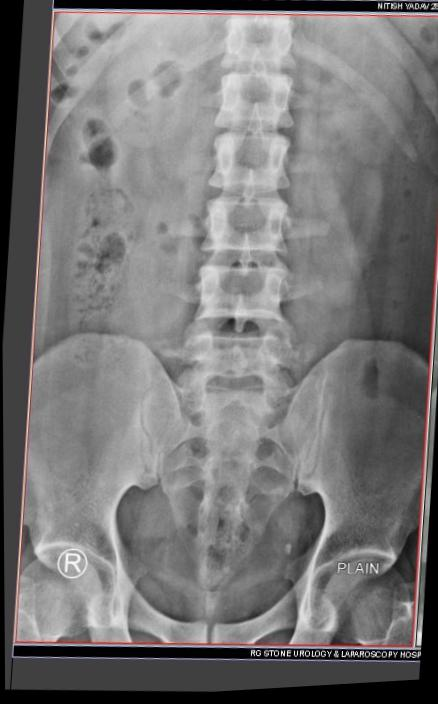bladder: (114, 538, 289, 667)
vertebrae: (196, 55, 282, 123)
